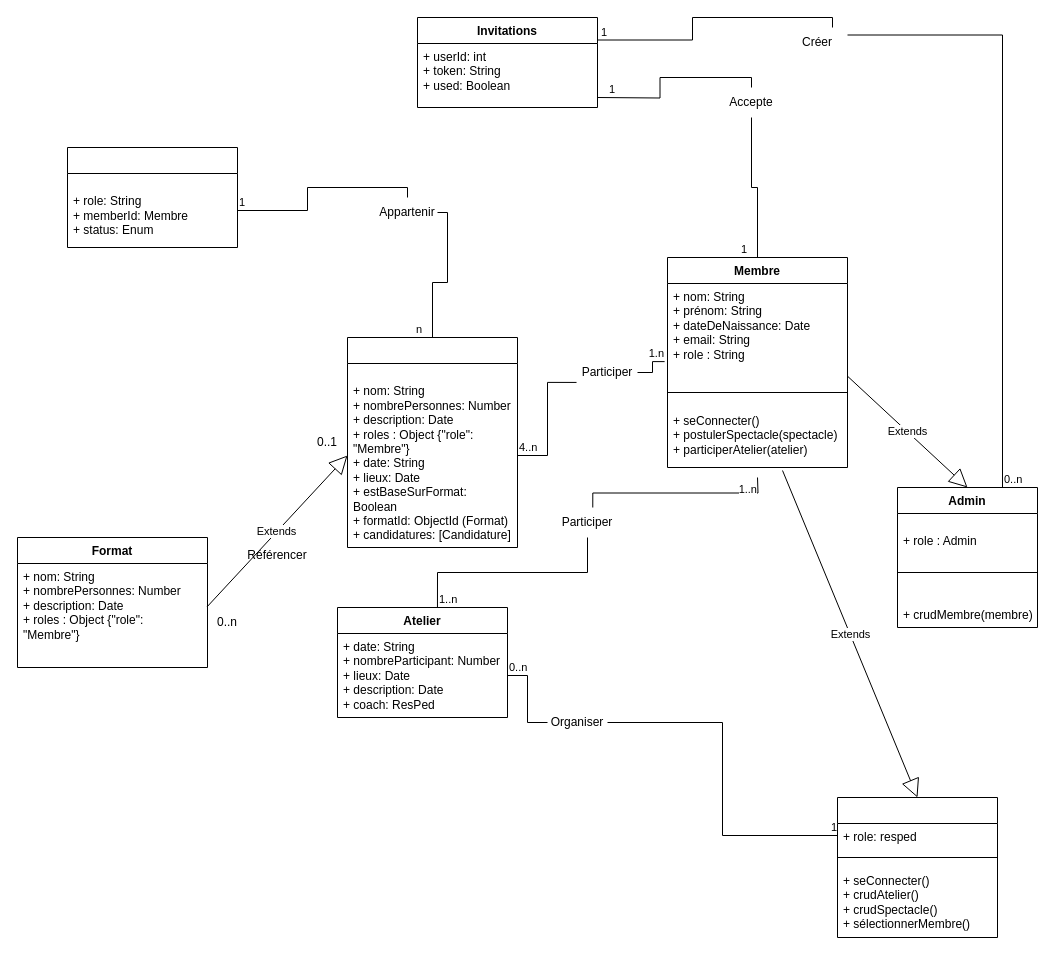
This 1055x958 diagram has some shape labels left out. The box of each missing label's shape, as (x1, y1, x2, y2) in pixels:
Candidature: (66, 146, 238, 248)
Responsable pédagogique: (836, 796, 998, 938)
Spectacle: (346, 336, 518, 548)
